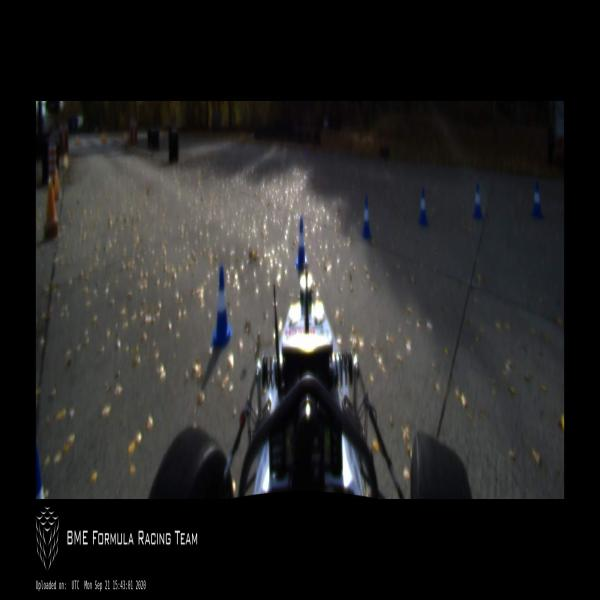blue_cone: (211, 267, 233, 346), (296, 218, 307, 270), (531, 181, 544, 219), (472, 182, 482, 220), (362, 197, 371, 238), (418, 187, 427, 225)
